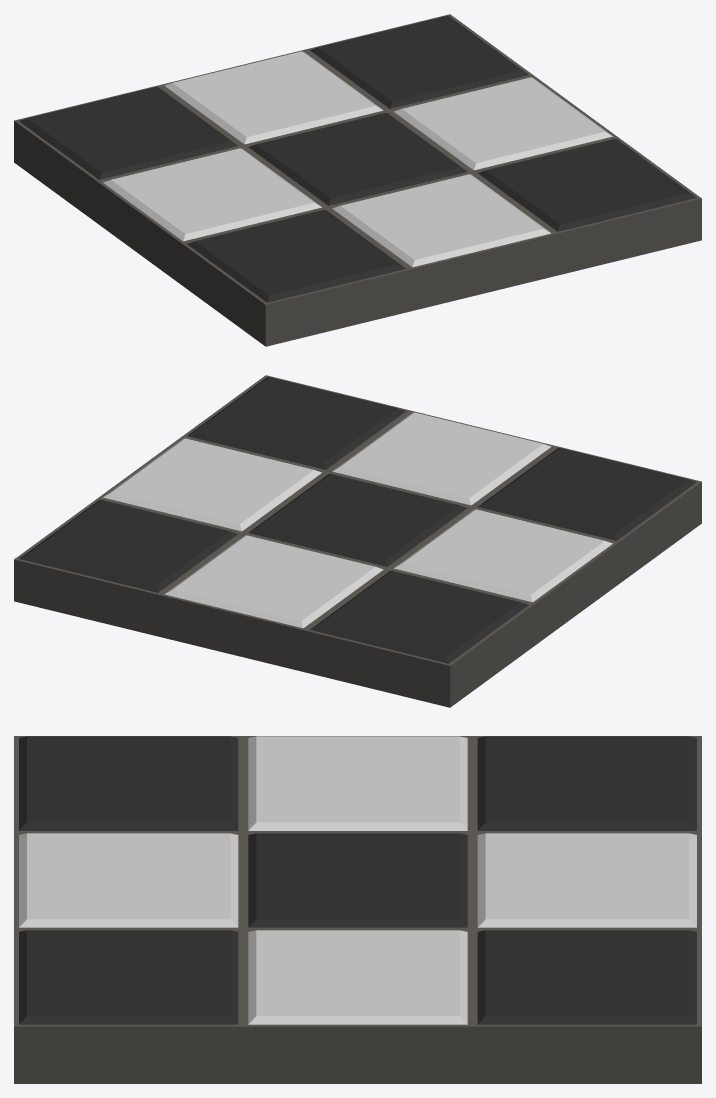
Rendered from Floor2.fbx.
The picture shows the model from 3 angles, top to bottom: view 1: azimuth 30°, elevation 25°; view 2: azimuth 150°, elevation 25°; view 3: azimuth 270°, elevation 25°; orthographic projection. The views are drawn at different scales.
Visible parts, largest first — view 1: Floor2; view 2: Floor2; view 3: Floor2.
Part boxes in pixels (bbox=[...]): Floor2: bbox=[14, 14, 701, 346]; Floor2: bbox=[14, 375, 701, 707]; Floor2: bbox=[14, 736, 701, 1083].
Bounding box in the file's own units: 200 × 20 × 200.
